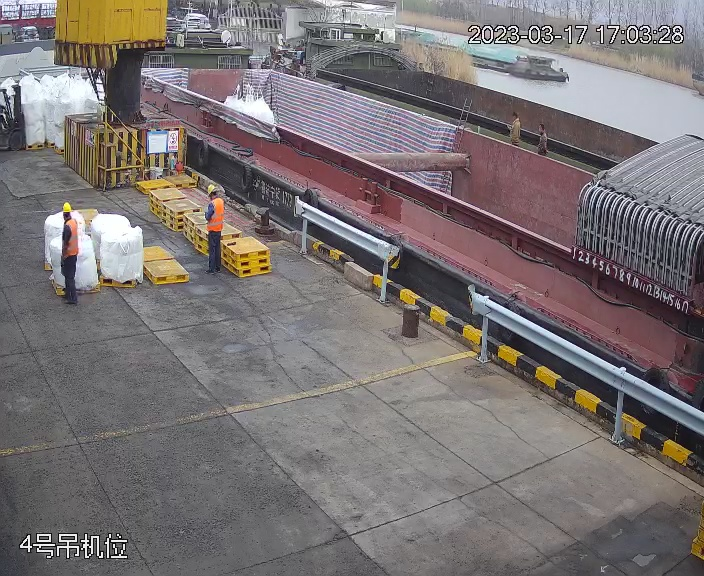head: (59, 201, 79, 244), (205, 186, 226, 215)
helmet: (205, 183, 216, 196), (61, 202, 73, 213)
people: (52, 201, 82, 305), (202, 184, 227, 274)
